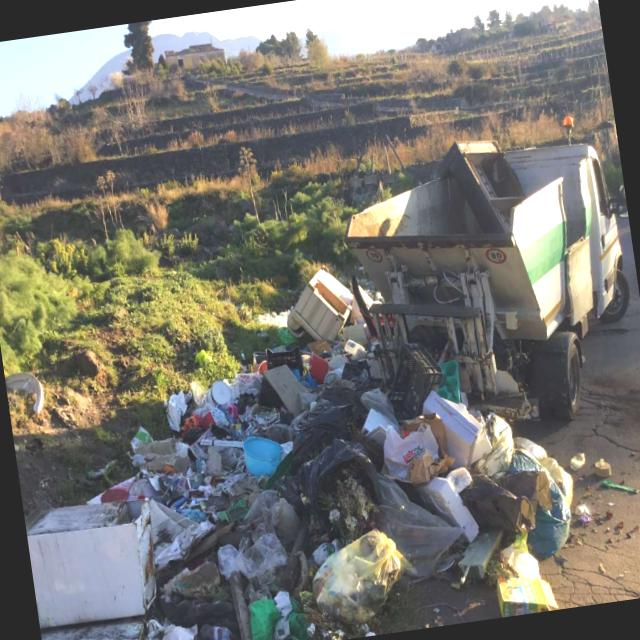garbage: (4, 297, 590, 640)
